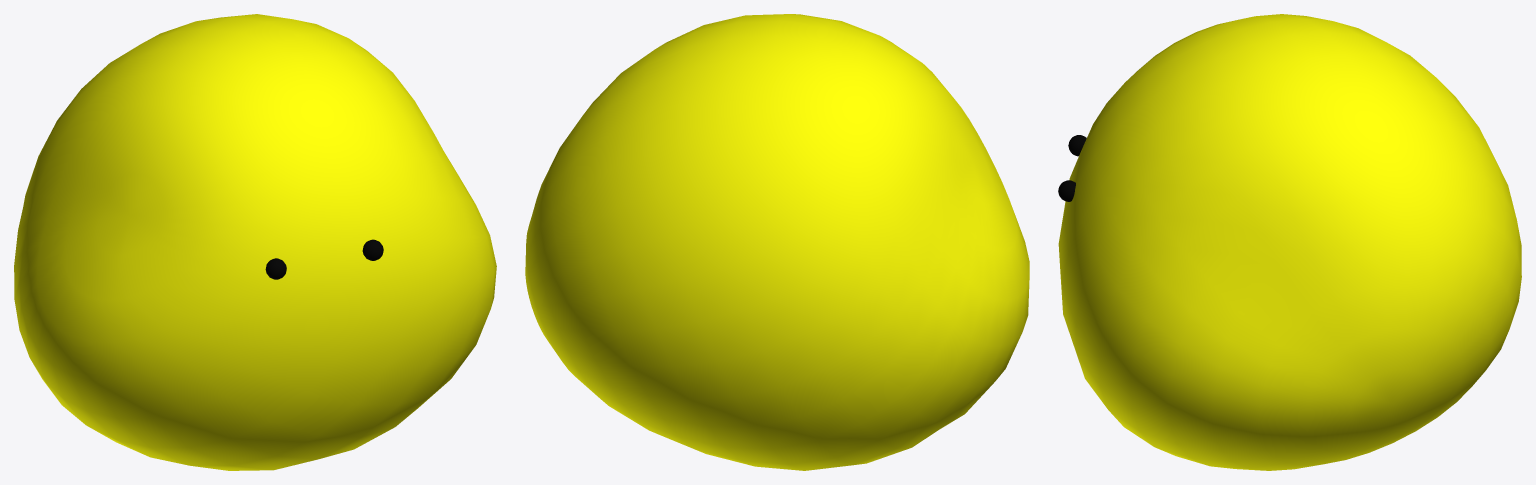
The model's file is roomie1.glb.
3 views of the same model, side by side, from view 1: azimuth 30°, elevation 25°; view 2: azimuth 150°, elevation 25°; view 3: azimuth 270°, elevation 25° (orthographic). The views are drawn at different scales.
Visible parts, largest first — view 1: Body; view 2: Body; view 3: Body.
Boxes of the visible parts, box(x1,y1,x2,y2) form: Body: box(14, 14, 496, 470); Body: box(525, 14, 1029, 470); Body: box(1058, 14, 1521, 470).
Size of the model in its own units: 5.89 by 5.3 by 5.47.
